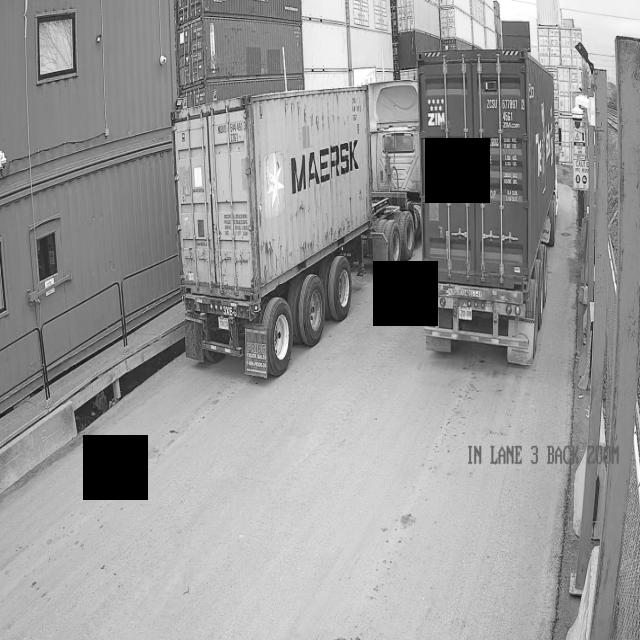container_company_logo: (426, 93, 449, 129)
container_number: (485, 93, 528, 125)
license_plate: (456, 302, 478, 322)
truck_with_container: (172, 82, 419, 377), (416, 49, 557, 364)
